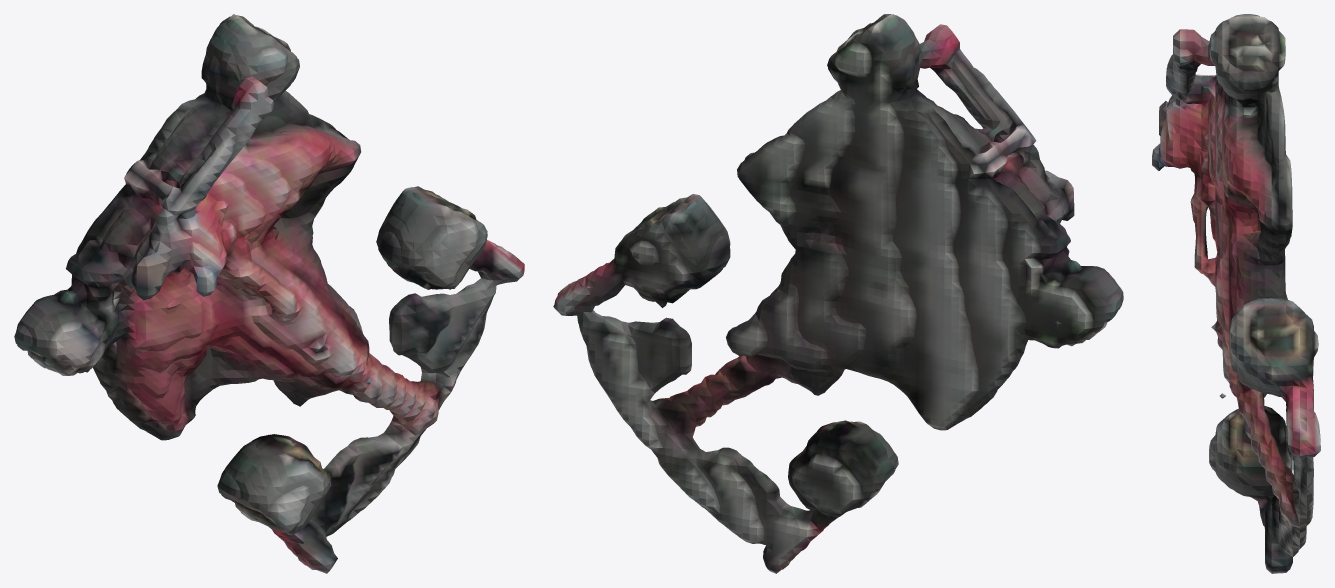
3 renders of one model, left to right at view 1: azimuth 30°, elevation 25°; view 2: azimuth 150°, elevation 25°; view 3: azimuth 270°, elevation 25°, orthographic. The views are drawn at different scales.
Visible parts, largest first — view 1: world; view 2: world; view 3: world.
Boxes of the visible parts, bbox=[...] form: world: bbox=[14, 14, 524, 573]; world: bbox=[553, 14, 1123, 573]; world: bbox=[1152, 14, 1320, 573].
Size of the model in its own units: 1.08 by 1.1 by 0.3279.
